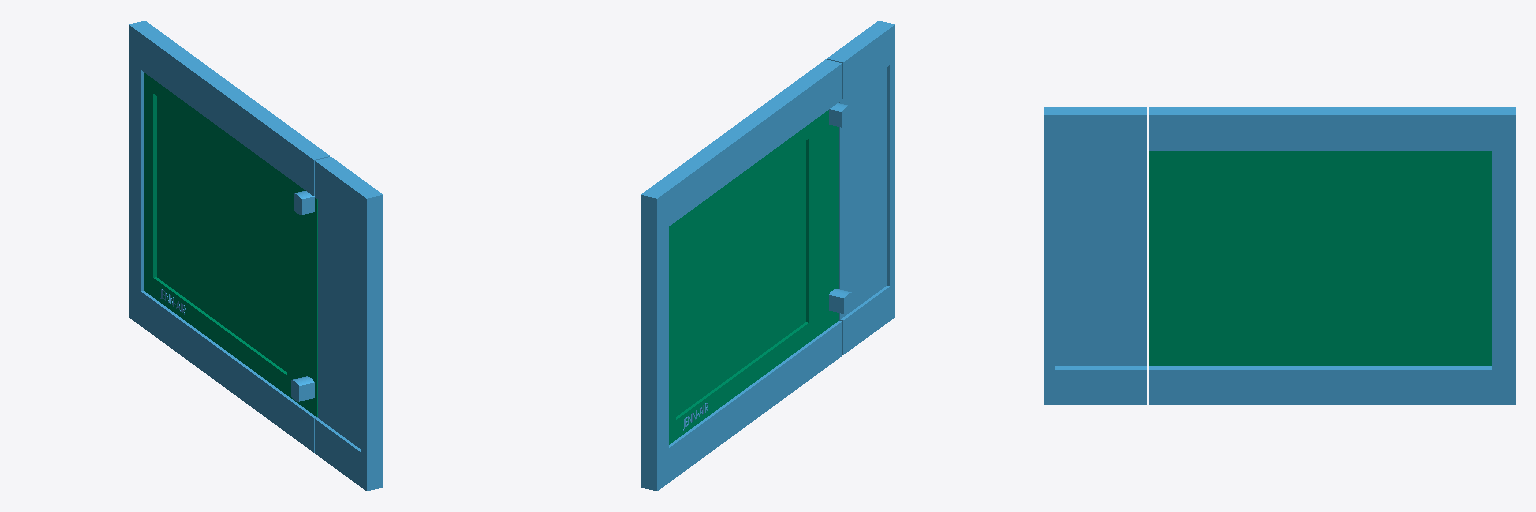
robot.urdf — partnet_5b2633d960419bb2e5bf1ab8e7d0b:
<?xml version="1.0" ?>
<robot name="partnet_5b2633d960419bb2e5bf1ab8e7d0b">
	<link name="base"/>
	<link name="link_0">
		<visual name="door_frame-41">
			<origin xyz="0.7682425612805752 -0.4679230000000003 -0.4374772029288201"/>
			<geometry>
				<mesh filename="textured_objs/original-1.obj"/>
			</geometry>
		</visual>
		<visual name="door_frame-41">
			<origin xyz="0.7682425612805752 -0.4679230000000003 -0.4374772029288201"/>
			<geometry>
				<mesh filename="textured_objs/original-9.obj"/>
			</geometry>
		</visual>
		<visual name="door_frame-41">
			<origin xyz="0.7682425612805752 -0.4679230000000003 -0.4374772029288201"/>
			<geometry>
				<mesh filename="textured_objs/original-17.obj"/>
			</geometry>
		</visual>
		<visual name="door_frame-41">
			<origin xyz="0.7682425612805752 -0.4679230000000003 -0.4374772029288201"/>
			<geometry>
				<mesh filename="textured_objs/original-10.obj"/>
			</geometry>
		</visual>
		<visual name="door_frame-41">
			<origin xyz="0.7682425612805752 -0.4679230000000003 -0.4374772029288201"/>
			<geometry>
				<mesh filename="textured_objs/original-11.obj"/>
			</geometry>
		</visual>
		<visual name="door_frame-41">
			<origin xyz="0.7682425612805752 -0.4679230000000003 -0.4374772029288201"/>
			<geometry>
				<mesh filename="textured_objs/original-12.obj"/>
			</geometry>
		</visual>
		<visual name="door_frame-41">
			<origin xyz="0.7682425612805752 -0.4679230000000003 -0.4374772029288201"/>
			<geometry>
				<mesh filename="textured_objs/original-13.obj"/>
			</geometry>
		</visual>
		<visual name="door_frame-41">
			<origin xyz="0.7682425612805752 -0.4679230000000003 -0.4374772029288201"/>
			<geometry>
				<mesh filename="textured_objs/original-14.obj"/>
			</geometry>
		</visual>
		<visual name="door_frame-41">
			<origin xyz="0.7682425612805752 -0.4679230000000003 -0.4374772029288201"/>
			<geometry>
				<mesh filename="textured_objs/original-15.obj"/>
			</geometry>
		</visual>
		<visual name="door_frame-41">
			<origin xyz="0.7682425612805752 -0.4679230000000003 -0.4374772029288201"/>
			<geometry>
				<mesh filename="textured_objs/original-16.obj"/>
			</geometry>
		</visual>
		<visual name="door_frame-41">
			<origin xyz="0.7682425612805752 -0.4679230000000003 -0.4374772029288201"/>
			<geometry>
				<mesh filename="textured_objs/original-2.obj"/>
			</geometry>
		</visual>
		<visual name="glass-42">
			<origin xyz="0.7682425612805752 -0.4679230000000003 -0.4374772029288201"/>
			<geometry>
				<mesh filename="textured_objs/original-5.obj"/>
			</geometry>
		</visual>
		<visual name="handle-43">
			<origin xyz="0.7682425612805752 -0.4679230000000003 -0.4374772029288201"/>
			<geometry>
				<mesh filename="textured_objs/original-19.obj"/>
			</geometry>
		</visual>
		<visual name="handle-43">
			<origin xyz="0.7682425612805752 -0.4679230000000003 -0.4374772029288201"/>
			<geometry>
				<mesh filename="textured_objs/original-21.obj"/>
			</geometry>
		</visual>
		<visual name="handle-43">
			<origin xyz="0.7682425612805752 -0.4679230000000003 -0.4374772029288201"/>
			<geometry>
				<mesh filename="textured_objs/original-20.obj"/>
			</geometry>
		</visual>
		<collision>
			<origin xyz="0.7682425612805752 -0.4679230000000003 -0.4374772029288201"/>
			<geometry>
				<mesh filename="textured_objs/original-1.obj"/>
			</geometry>
		</collision>
		<collision>
			<origin xyz="0.7682425612805752 -0.4679230000000003 -0.4374772029288201"/>
			<geometry>
				<mesh filename="textured_objs/original-9.obj"/>
			</geometry>
		</collision>
		<collision>
			<origin xyz="0.7682425612805752 -0.4679230000000003 -0.4374772029288201"/>
			<geometry>
				<mesh filename="textured_objs/original-17.obj"/>
			</geometry>
		</collision>
		<collision>
			<origin xyz="0.7682425612805752 -0.4679230000000003 -0.4374772029288201"/>
			<geometry>
				<mesh filename="textured_objs/original-10.obj"/>
			</geometry>
		</collision>
		<collision>
			<origin xyz="0.7682425612805752 -0.4679230000000003 -0.4374772029288201"/>
			<geometry>
				<mesh filename="textured_objs/original-11.obj"/>
			</geometry>
		</collision>
		<collision>
			<origin xyz="0.7682425612805752 -0.4679230000000003 -0.4374772029288201"/>
			<geometry>
				<mesh filename="textured_objs/original-12.obj"/>
			</geometry>
		</collision>
		<collision>
			<origin xyz="0.7682425612805752 -0.4679230000000003 -0.4374772029288201"/>
			<geometry>
				<mesh filename="textured_objs/original-13.obj"/>
			</geometry>
		</collision>
		<collision>
			<origin xyz="0.7682425612805752 -0.4679230000000003 -0.4374772029288201"/>
			<geometry>
				<mesh filename="textured_objs/original-14.obj"/>
			</geometry>
		</collision>
		<collision>
			<origin xyz="0.7682425612805752 -0.4679230000000003 -0.4374772029288201"/>
			<geometry>
				<mesh filename="textured_objs/original-15.obj"/>
			</geometry>
		</collision>
		<collision>
			<origin xyz="0.7682425612805752 -0.4679230000000003 -0.4374772029288201"/>
			<geometry>
				<mesh filename="textured_objs/original-16.obj"/>
			</geometry>
		</collision>
		<collision>
			<origin xyz="0.7682425612805752 -0.4679230000000003 -0.4374772029288201"/>
			<geometry>
				<mesh filename="textured_objs/original-2.obj"/>
			</geometry>
		</collision>
		<collision>
			<origin xyz="0.7682425612805752 -0.4679230000000003 -0.4374772029288201"/>
			<geometry>
				<mesh filename="textured_objs/original-5.obj"/>
			</geometry>
		</collision>
		<collision>
			<origin xyz="0.7682425612805752 -0.4679230000000003 -0.4374772029288201"/>
			<geometry>
				<mesh filename="textured_objs/original-19.obj"/>
			</geometry>
		</collision>
		<collision>
			<origin xyz="0.7682425612805752 -0.4679230000000003 -0.4374772029288201"/>
			<geometry>
				<mesh filename="textured_objs/original-21.obj"/>
			</geometry>
		</collision>
		<collision>
			<origin xyz="0.7682425612805752 -0.4679230000000003 -0.4374772029288201"/>
			<geometry>
				<mesh filename="textured_objs/original-20.obj"/>
			</geometry>
		</collision>
	</link>
	<joint name="joint_0" type="revolute">
		<origin xyz="-0.7682425612805752 0.4679230000000003 0.4374772029288201"/>
		<axis xyz="0 -1 0"/>
		<child link="link_0"/>
		<parent link="link_1"/>
		<limit lower="0.0" upper="1.5707963267948966"/>
	</joint>
	<link name="link_1">
		<visual name="frame-2">
			<origin xyz="0 0 0"/>
			<geometry>
				<mesh filename="textured_objs/original-6.obj"/>
			</geometry>
		</visual>
		<visual name="frame-2">
			<origin xyz="0 0 0"/>
			<geometry>
				<mesh filename="textured_objs/original-3.obj"/>
			</geometry>
		</visual>
		<visual name="frame-2">
			<origin xyz="0 0 0"/>
			<geometry>
				<mesh filename="textured_objs/original-7.obj"/>
			</geometry>
		</visual>
		<collision>
			<origin xyz="0 0 0"/>
			<geometry>
				<mesh filename="textured_objs/original-6.obj"/>
			</geometry>
		</collision>
		<collision>
			<origin xyz="0 0 0"/>
			<geometry>
				<mesh filename="textured_objs/original-3.obj"/>
			</geometry>
		</collision>
		<collision>
			<origin xyz="0 0 0"/>
			<geometry>
				<mesh filename="textured_objs/original-7.obj"/>
			</geometry>
		</collision>
	</link>
	<joint name="joint_1" type="fixed">
		<origin rpy="1.570796326794897 0 -1.570796326794897" xyz="0 0 0"/>
		<child link="link_1"/>
		<parent link="base"/>
	</joint>
</robot>

--- What the picture shows (computed from the rendered views, not written in the file) ---
3 views of the same robot in one strip: view 1: azimuth 30°, elevation 25°; view 2: azimuth 150°, elevation 25°; view 3: azimuth 270°, elevation 25° (orthographic).
Model partnet_5b2633d960419bb2e5bf1ab8e7d0b with 3 links and 2 joints (1 revolute, 1 fixed), rooted at base, posed all joints at 0.
Visible links, largest first — view 1: link_0, link_1; view 2: link_0, link_1; view 3: link_1, link_0.
Boxes of the visible links, bbox=[...] form: link_0: bbox=[129, 21, 382, 490]; link_1: bbox=[144, 73, 317, 416]; link_0: bbox=[641, 21, 894, 490]; link_1: bbox=[669, 110, 838, 444]; link_1: bbox=[1149, 151, 1491, 365]; link_0: bbox=[1044, 107, 1515, 404].
Bounding box of the posed robot: 0.0923 × 1.31 × 0.8896 m (x, y, z).
Meshes: 18 distinct files referenced, 15 mesh visuals loaded (15 OBJ); not drawn: 3 (reference not matched to a file when rendering).